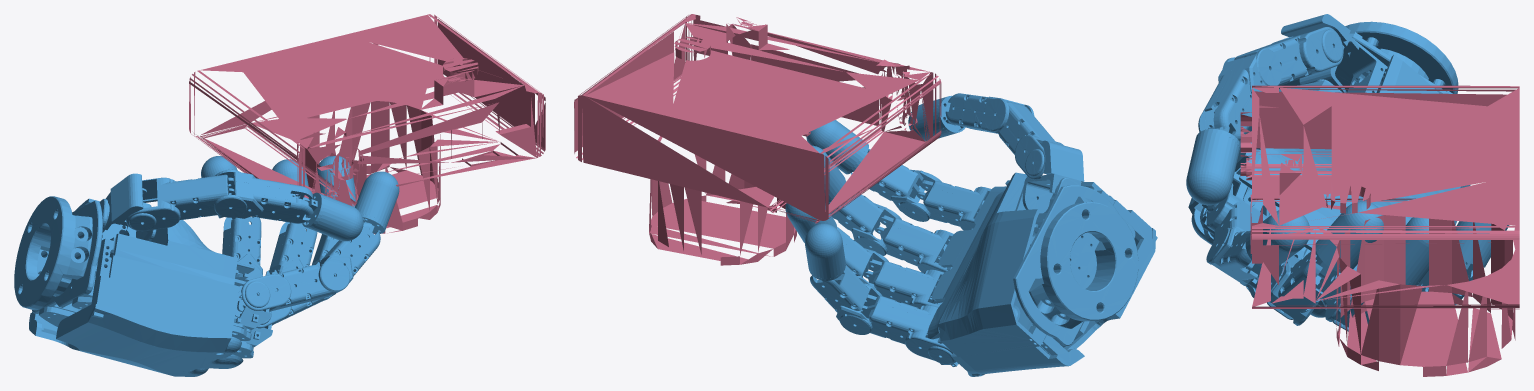
The picture shows the model from 3 angles, left to right: view 1: azimuth 30°, elevation 25°; view 2: azimuth 150°, elevation 25°; view 3: azimuth 270°, elevation 25°; orthographic projection. The views are drawn at different scales.
Visible parts, largest first — view 1: 1; view 2: 1; view 3: 1.
Part boxes in pixels (x1=…): 1: x1=14, y1=14, x2=545, y2=376; 1: x1=574, y1=14, x2=1157, y2=376; 1: x1=1186, y1=14, x2=1519, y2=376.
Bounding box in the file's own units: 0.2988 × 0.1497 × 0.1464.
